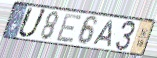3: (114, 19, 136, 52)
6: (77, 15, 99, 46)
8: (39, 10, 61, 41)
A: (91, 20, 114, 48)
E: (54, 13, 83, 44)
U: (16, 6, 49, 39)
